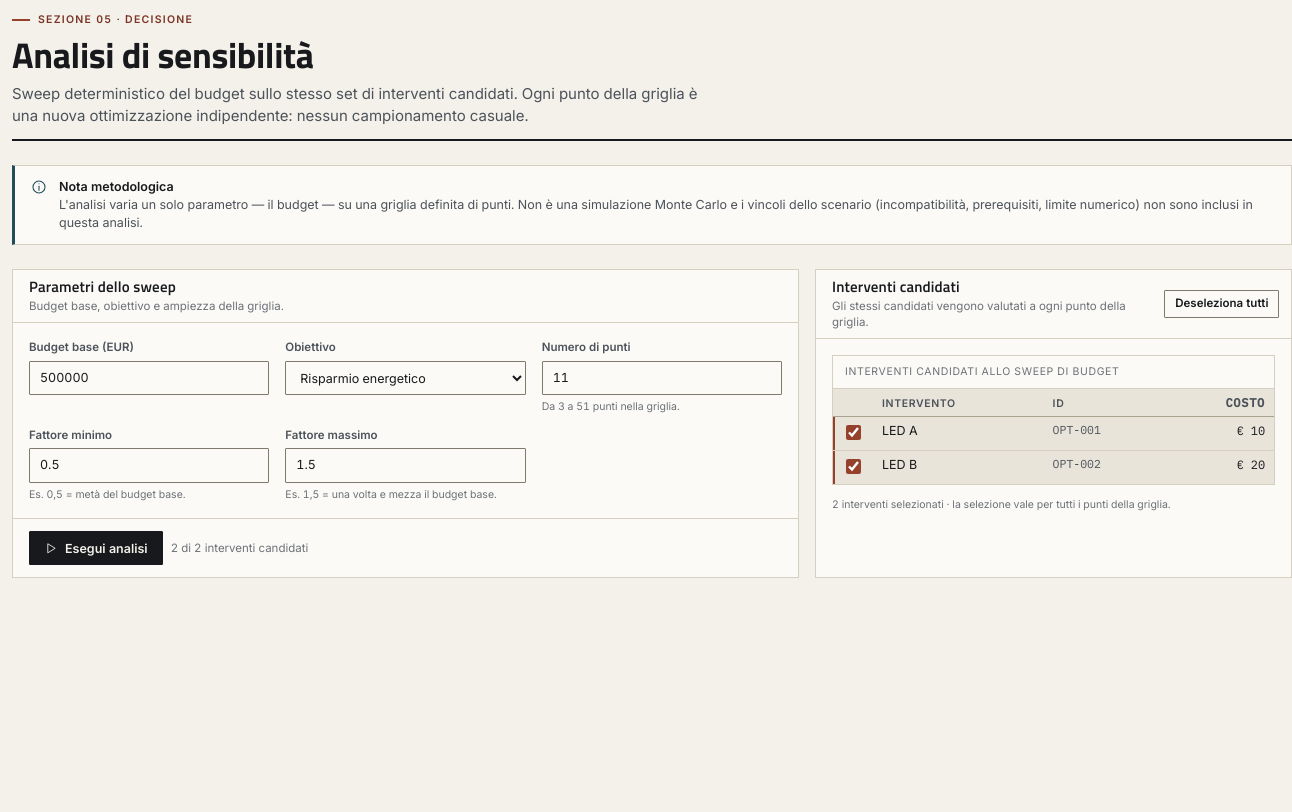
Test case: SensitivityPage › mostra errore se la chiamata fallisce
Check: the text "LED A" is shown, box [873,416,1044,451]
Click the button "Esegui analisi" at (96, 548), box [29,531,163,565]
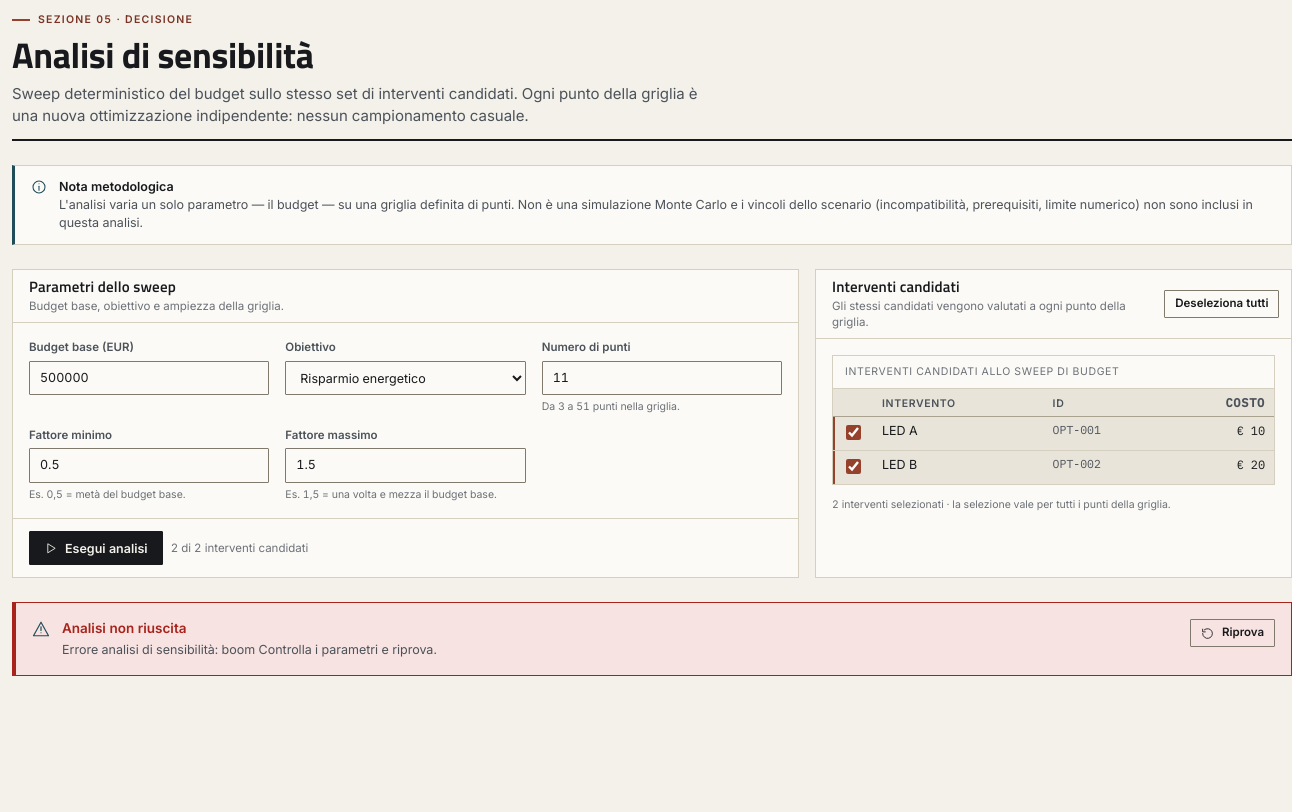
Check: the message shows "boom", box [62,642,255,657]
